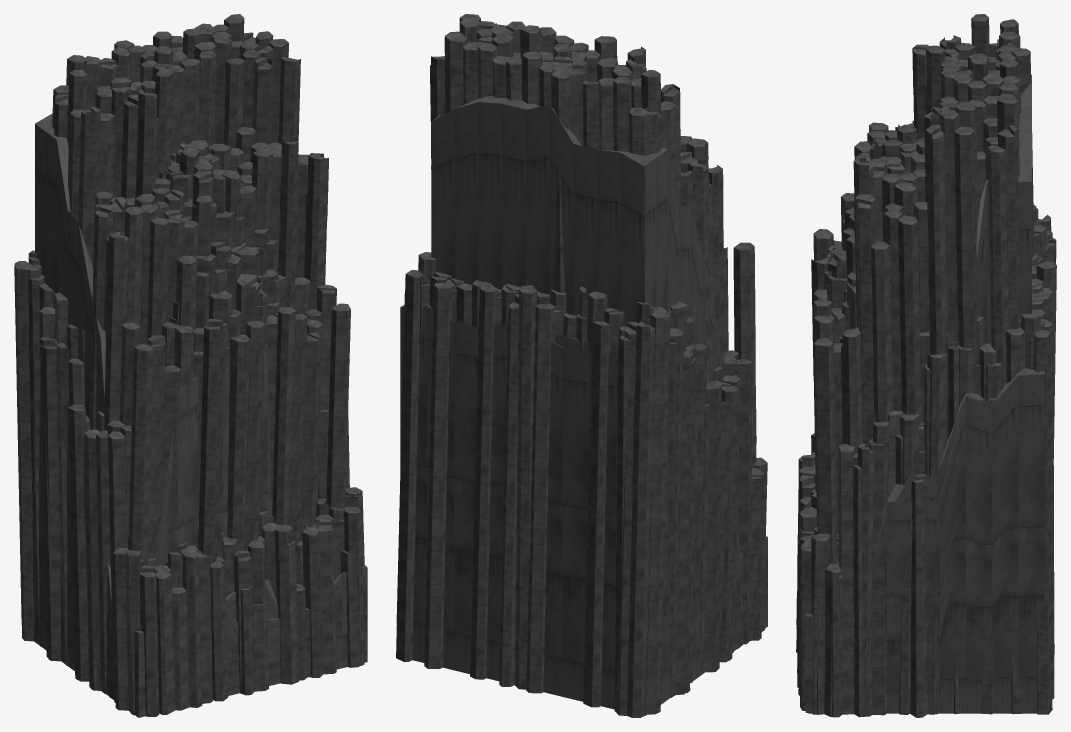
File: basalt.glb
3 views of the same model, side by side, from view 1: azimuth 30°, elevation 25°; view 2: azimuth 150°, elevation 25°; view 3: azimuth 270°, elevation 25° (orthographic). The views are drawn at different scales.
Parts seen in each view (by area): view 1: gorge_mass, escarpment_0, escarpment_1, sea_stack_0, sea_stack_1; view 2: escarpment_1, gorge_mass, escarpment_0; view 3: escarpment_1, gorge_mass, escarpment_0, sea_stack_1, sea_stack_0.
Boxes of the visible parts, x1,y1,x2,y2 form: gorge_mass: (35, 14, 350, 710); escarpment_0: (28, 265, 367, 717); escarpment_1: (14, 250, 366, 716); sea_stack_0: (167, 140, 278, 347); sea_stack_1: (159, 148, 286, 351); escarpment_1: (396, 252, 767, 717); gorge_mass: (430, 14, 756, 703); escarpment_0: (420, 276, 767, 715); escarpment_1: (798, 205, 1054, 717); gorge_mass: (811, 14, 1034, 563); escarpment_0: (796, 224, 1056, 716); sea_stack_1: (828, 150, 920, 398); sea_stack_0: (827, 138, 924, 297).
Size of what is drawn, in the model's own units: 18.73 by 41.65 by 16.2.
Materials: 1 (1 with a texture image).
